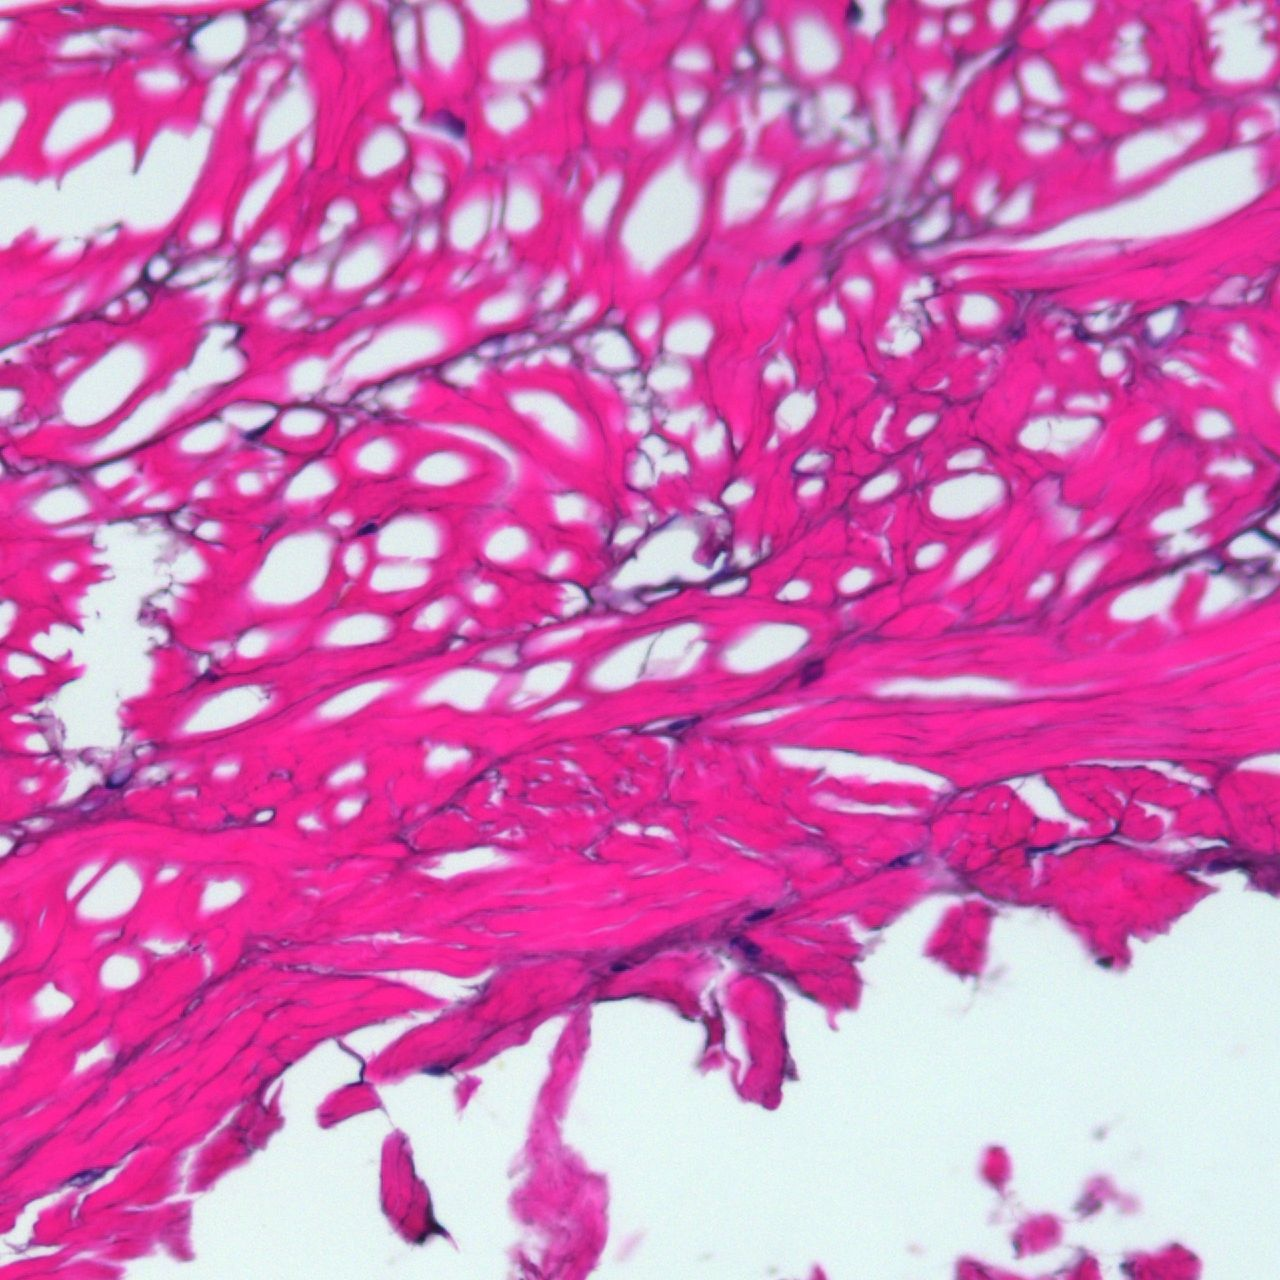nucleus-HE: (779, 241, 803, 267), (745, 905, 775, 924), (356, 520, 379, 538), (845, 1, 860, 18), (1097, 956, 1111, 968), (427, 1065, 444, 1074), (612, 964, 625, 971)
